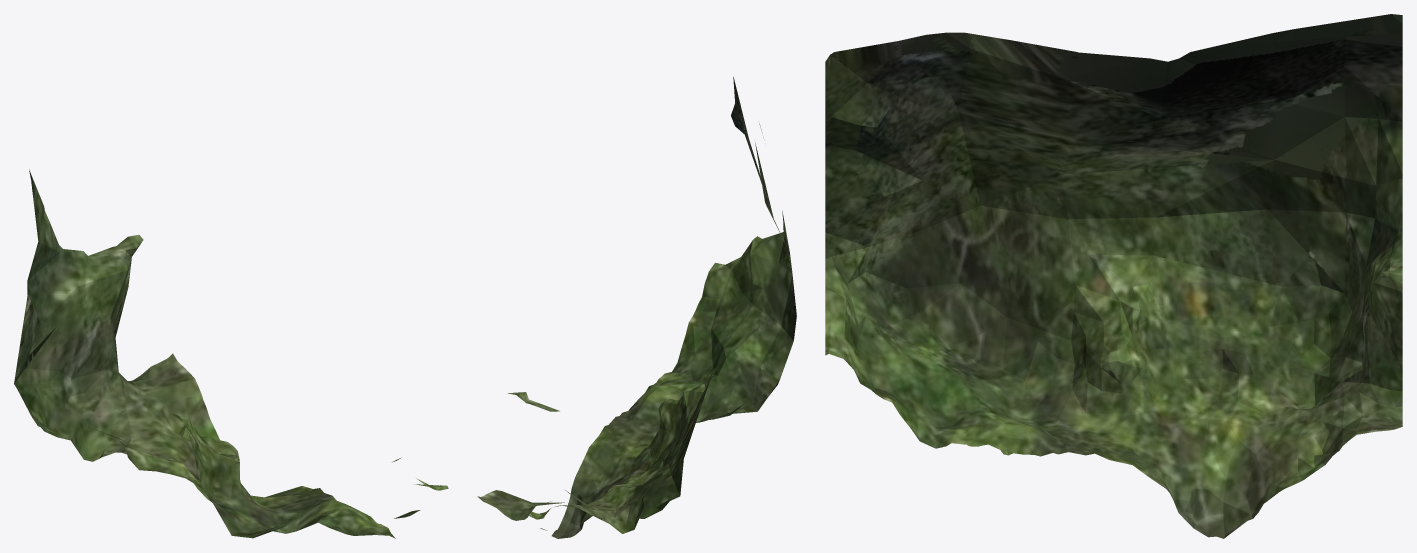
3 renders of one model, left to right at view 1: azimuth 30°, elevation 25°; view 2: azimuth 150°, elevation 25°; view 3: azimuth 270°, elevation 25°, orthographic. The views are drawn at different scales.
Size of the model in its own units: 1.2 by 2.75 by 2.95.
Materials: 3 (3 with a texture image).
